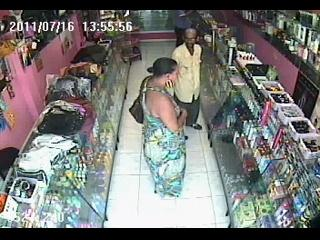Normal: (140, 57, 188, 200), (171, 28, 204, 130)
